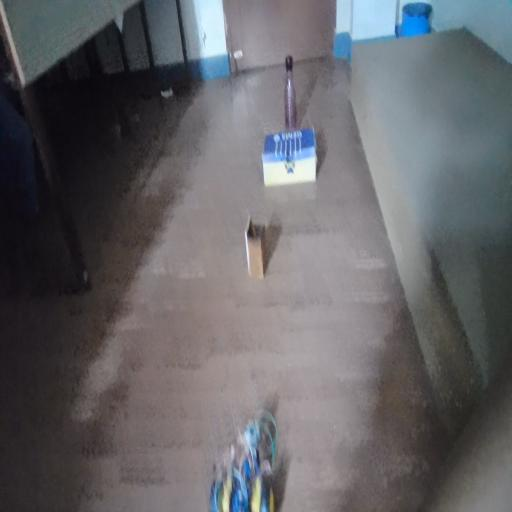Bottle: (272, 43, 304, 135)
car: (205, 407, 280, 512)
